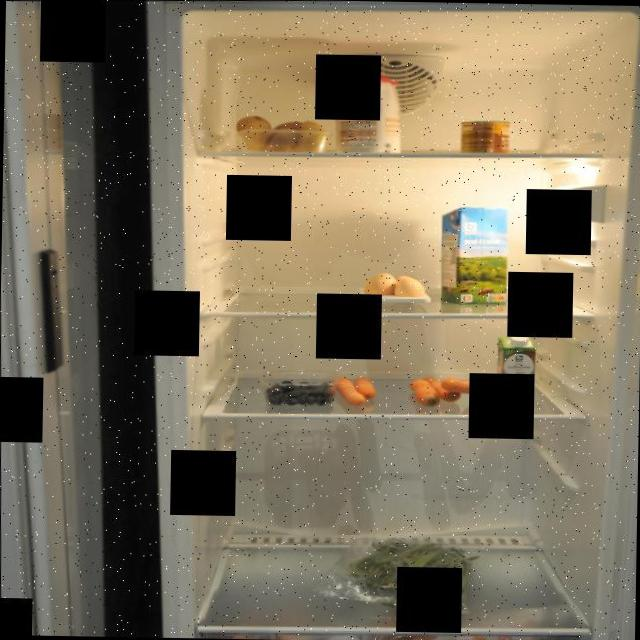Huevos: (366, 268, 430, 304)
Leche: (442, 202, 513, 308)
Patata: (235, 115, 332, 154)
Zanahoria: (408, 372, 500, 409), (333, 374, 383, 411)
